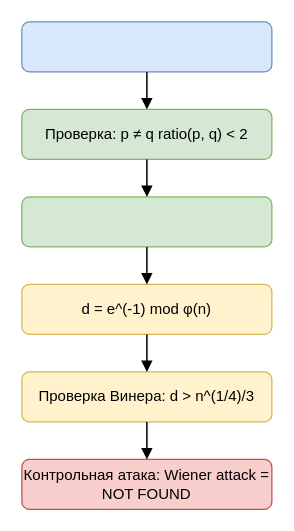
Some shapes in this 294 by 531 pixel diagram are drawn without their labels. The centre of each missing label's shape, as x and y in pixels:
"e = 65537 gcd(e, φ(n)) = 1" goes at (146,221).
"Генерация p и q близкой длины" goes at (146,46).
